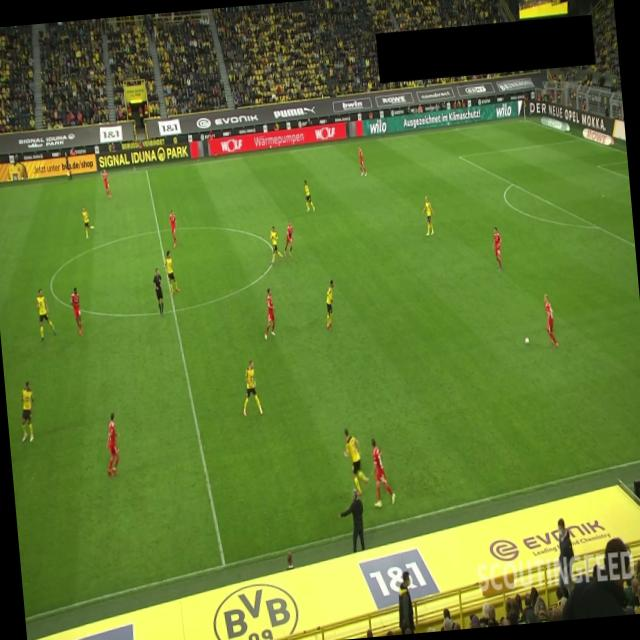ball: (524, 336, 530, 344)
player: (341, 426, 371, 496), (368, 436, 397, 508), (238, 358, 264, 418), (34, 286, 58, 342), (16, 380, 37, 443), (102, 410, 122, 476), (260, 286, 278, 340), (542, 292, 558, 348), (322, 279, 338, 330), (162, 250, 180, 294), (267, 224, 285, 265), (419, 194, 436, 236), (69, 286, 83, 336), (490, 226, 504, 272), (282, 220, 296, 258), (82, 205, 95, 240), (302, 178, 314, 212), (168, 208, 178, 248), (100, 168, 112, 198), (357, 146, 367, 178)
referee: (151, 266, 165, 318), (63, 151, 73, 181)
